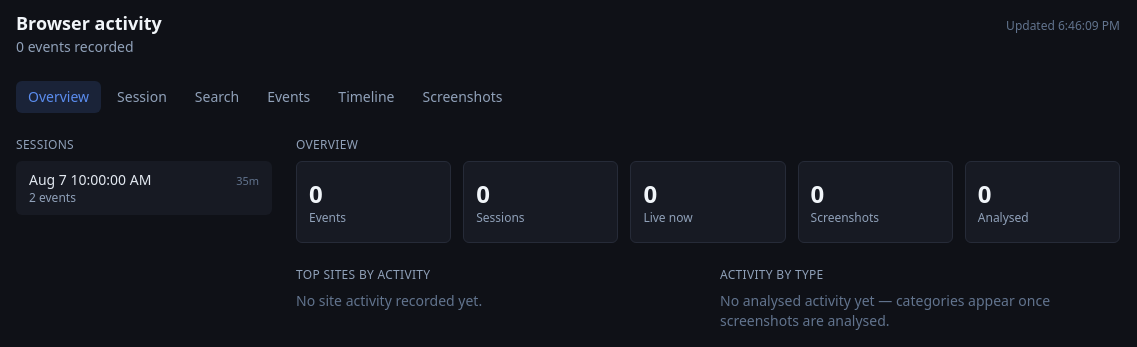
Test: timeline view › labels activities assembled from events rather than claiming AI
The image size is (1137, 347).
Expected: the text "0 events recorded" is shown, x1=16 y1=37 x2=134 y2=56
Click the button "Timeline" at coordinates (366, 97), box x1=326 y1=81 x2=406 y2=113
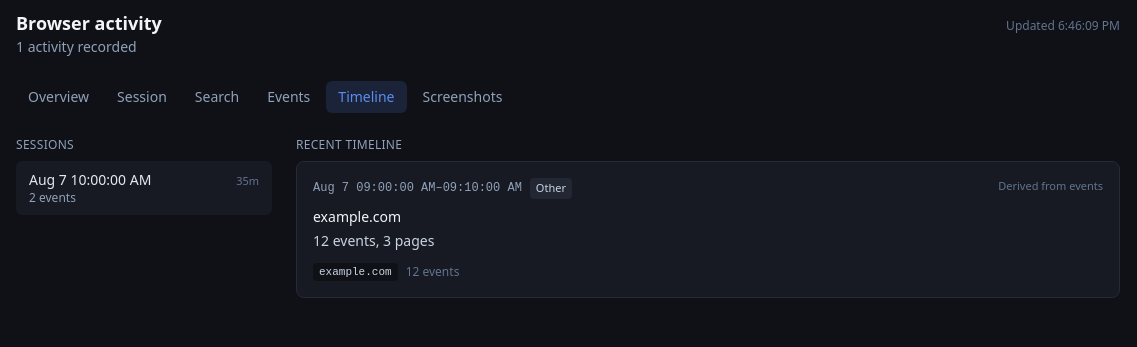
Expected: the text "Derived from events" is shown, x1=998 y1=178 x2=1103 y2=194
